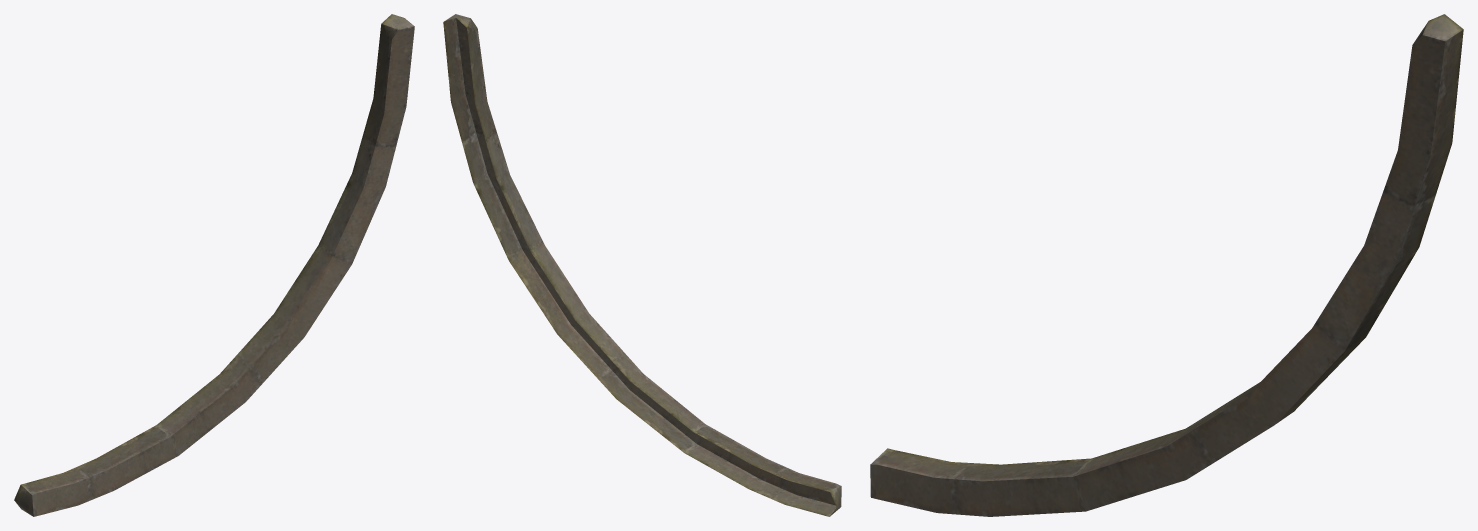
The model's file is border_c_90_long3.glb.
The picture shows the model from 3 angles, left to right: view 1: azimuth 30°, elevation 25°; view 2: azimuth 150°, elevation 25°; view 3: azimuth 330°, elevation 25°; orthographic projection. The views are drawn at different scales.
Visible parts, largest first — view 1: set_0_group_0; view 2: set_0_group_0; view 3: set_0_group_0.
Boxes of the visible parts, box(x1,y1,x2,y2) form: set_0_group_0: box(14, 14, 414, 516); set_0_group_0: box(443, 14, 841, 516); set_0_group_0: box(870, 14, 1463, 516).
Bounding box in the file's own units: 5.34 × 5.29 × 0.3232.
1 material, 1 textured.
